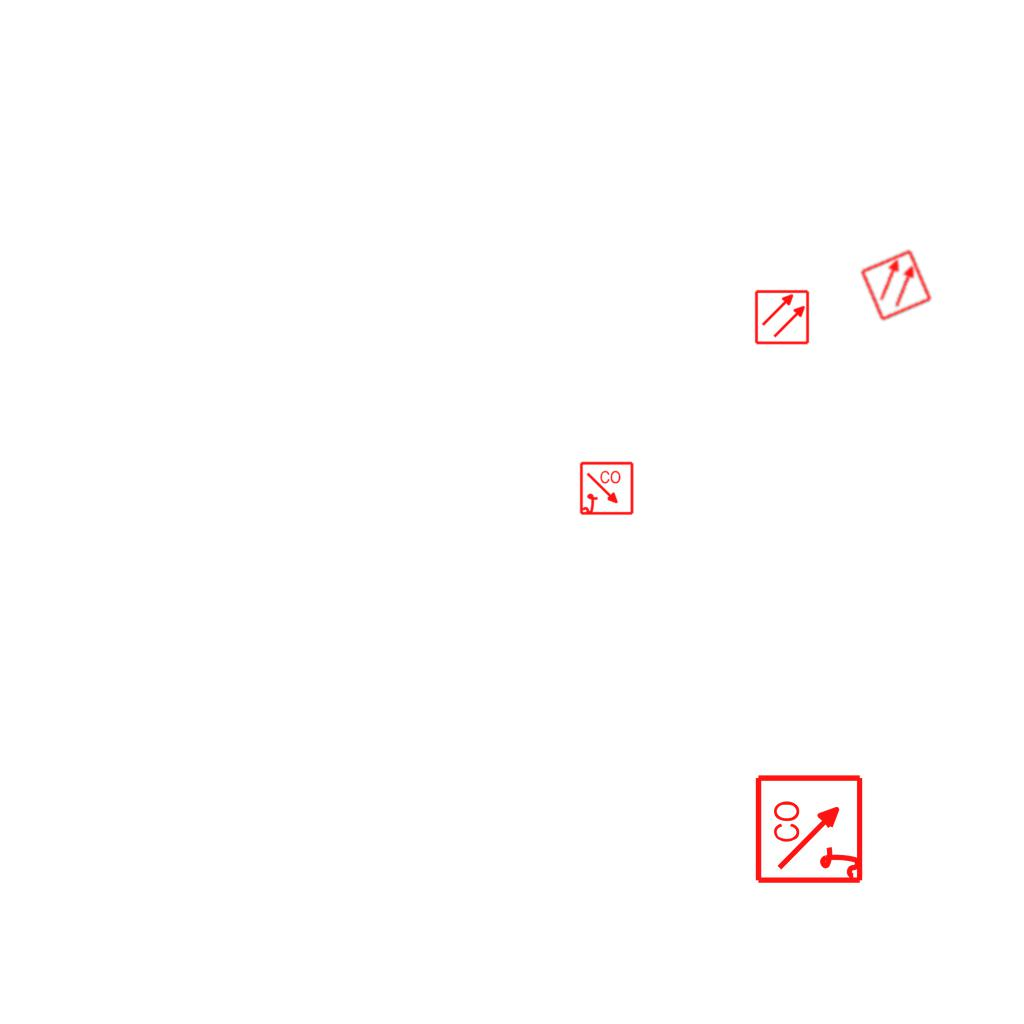RMO_Rauchmelder_optischer: (859, 248, 933, 322), (754, 289, 810, 345)
ROA_Rauchmelder_optisch_mit_Signalgeber_(Sockelsirene): (754, 772, 867, 885), (579, 461, 635, 517)
